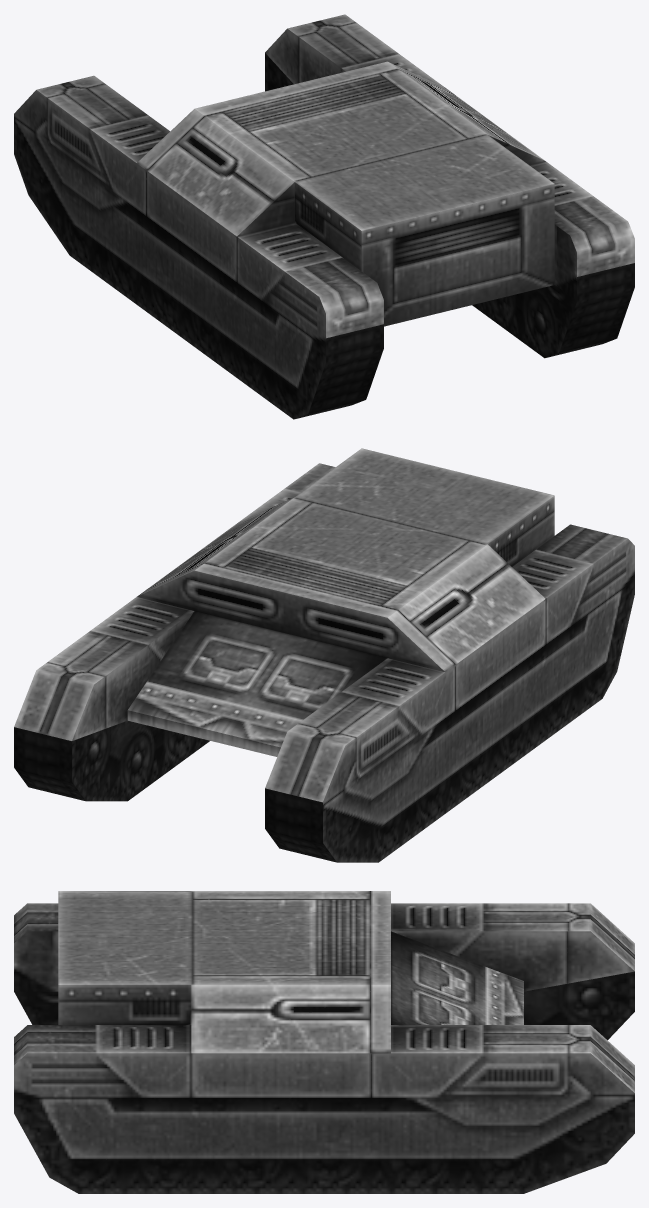
File: wasp.glb
3 views of the same model, one above another, from view 1: azimuth 30°, elevation 25°; view 2: azimuth 150°, elevation 25°; view 3: azimuth 270°, elevation 25° (orthographic).
Parts seen in each view (by area): view 1: hull; view 2: hull; view 3: hull.
Part boxes in pixels (x1,y1,x2,y2): hull: (14,14,634,419); hull: (14,448,634,862); hull: (14,891,634,1193).
Bounding box in the file's own units: 264 × 148 × 462.
1 material, 1 textured.
